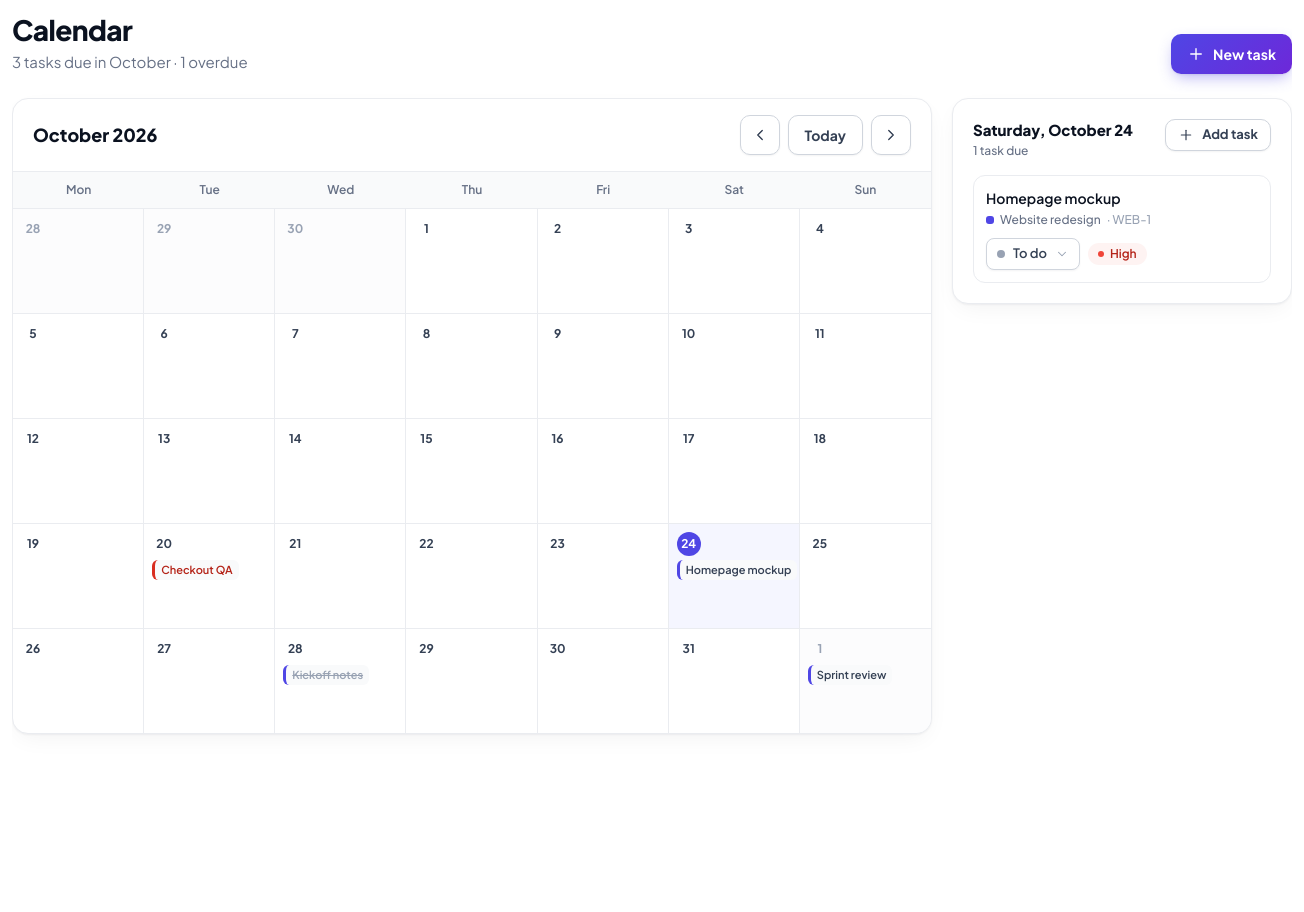
Scenario: Calendar page › shows the tasks of the selected day
Expected: the text "Homepage mockup" below "1 task due" is shown, [986, 189, 1121, 207]
What coordinates should you click on to do the following:
click the button with aria-label "Tuesday, October 20, 1 task"
I would click on:
 (210, 576)
Its box is [144, 524, 275, 628].
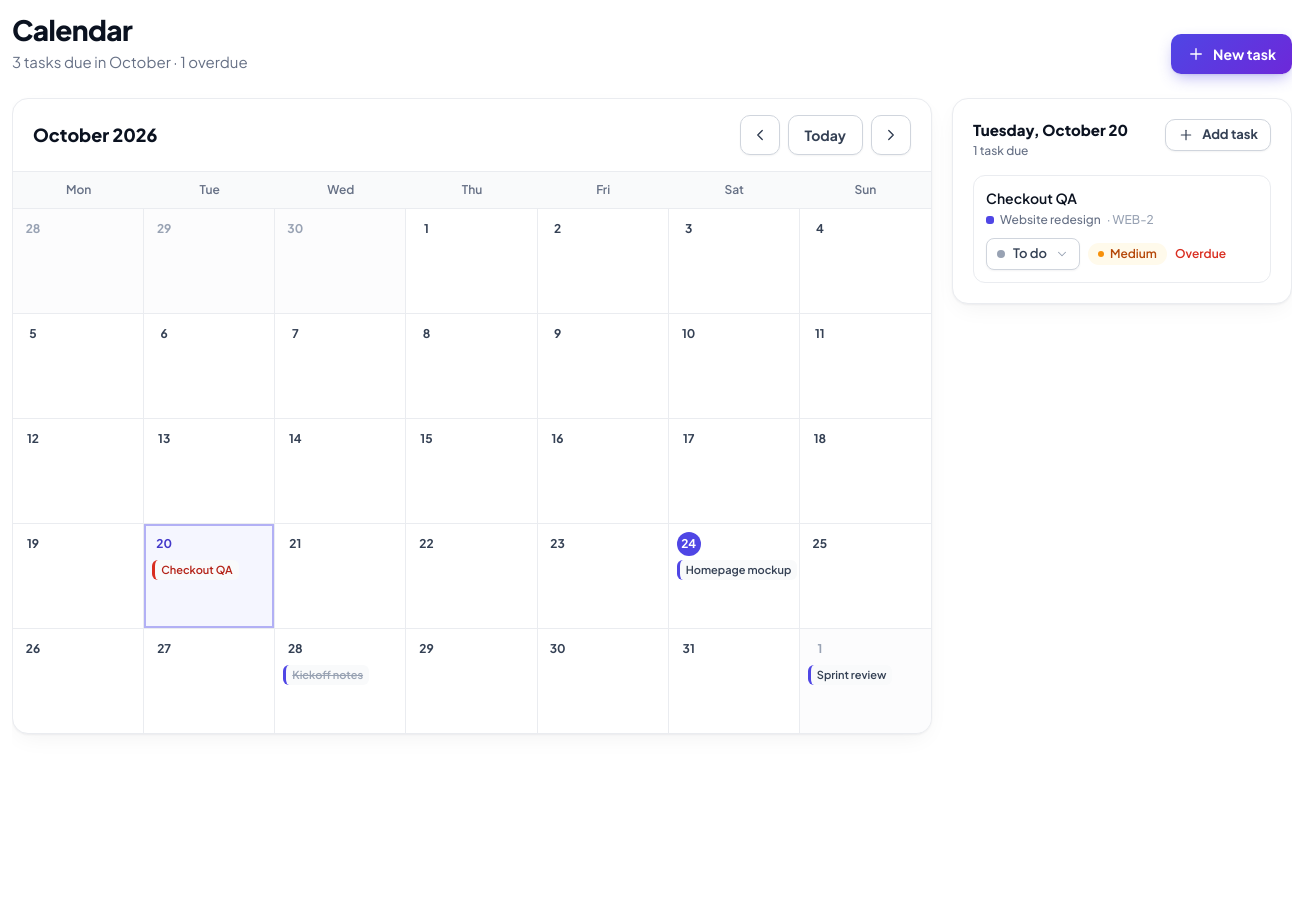
Now the text "Checkout QA" below "1 task due" is shown, box [986, 189, 1077, 207]
Now the text "Overdue" is shown, box [1175, 246, 1226, 262]
